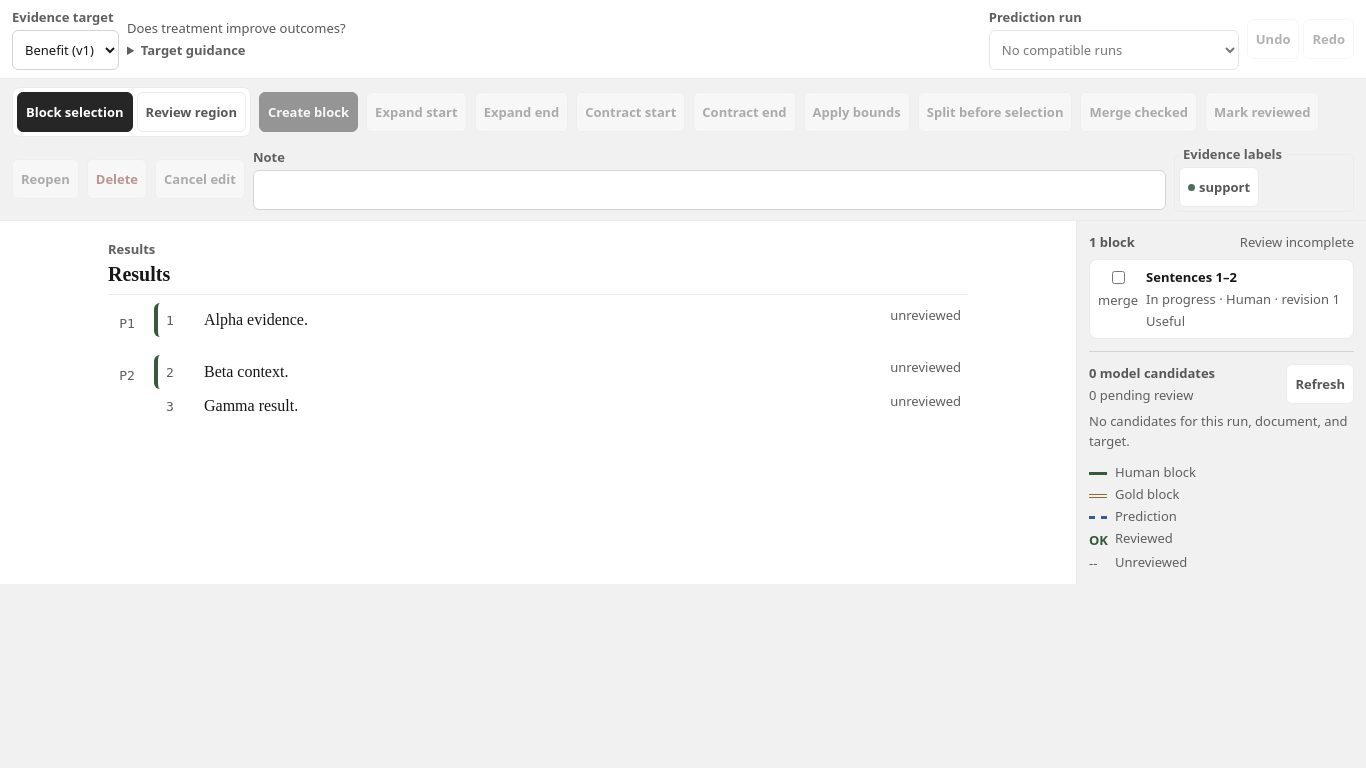
Scenario: EvidenceBlockCanvas › finishes a created block edit before selecting the next block
Click the button with aria-label "Sentence 3, unreviewed" at (251, 405), box [154, 389, 968, 423]
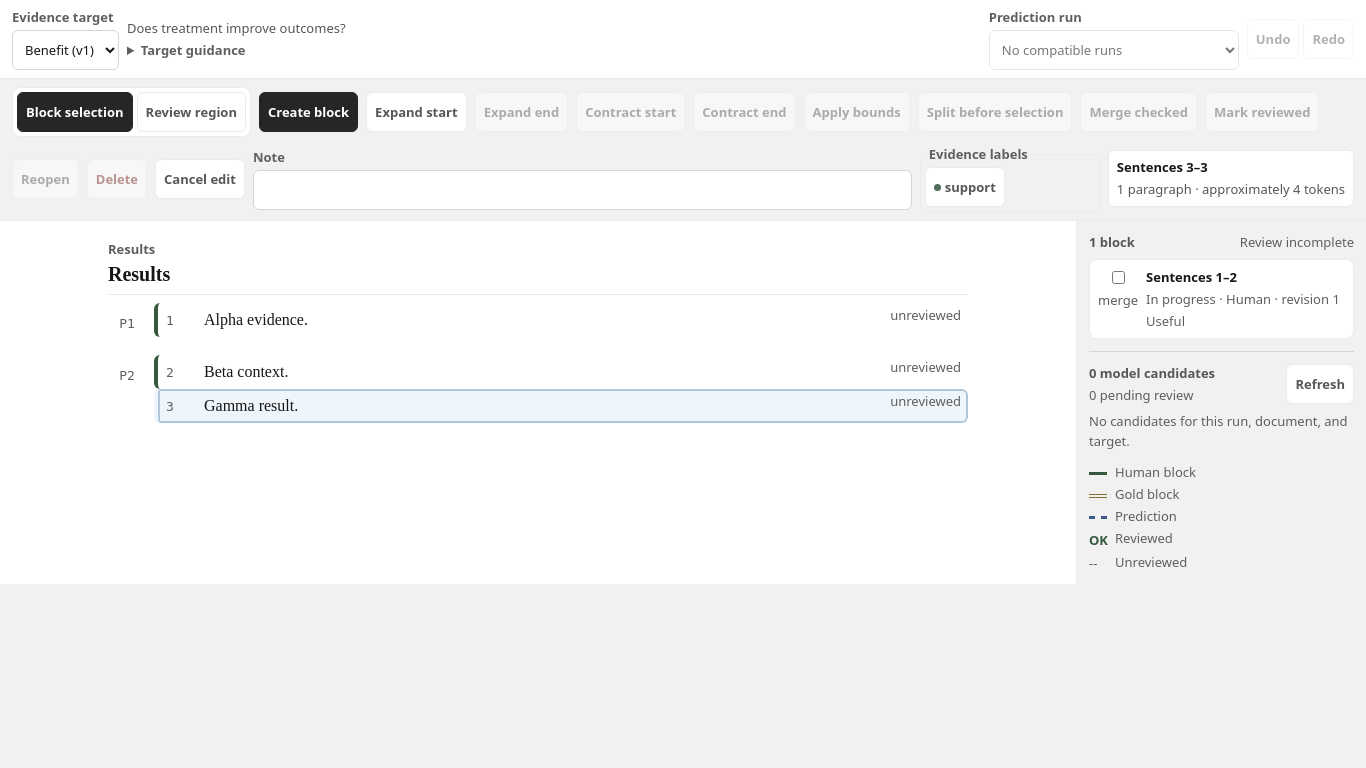
Click the button "support" at (965, 187), box [925, 167, 1005, 207]
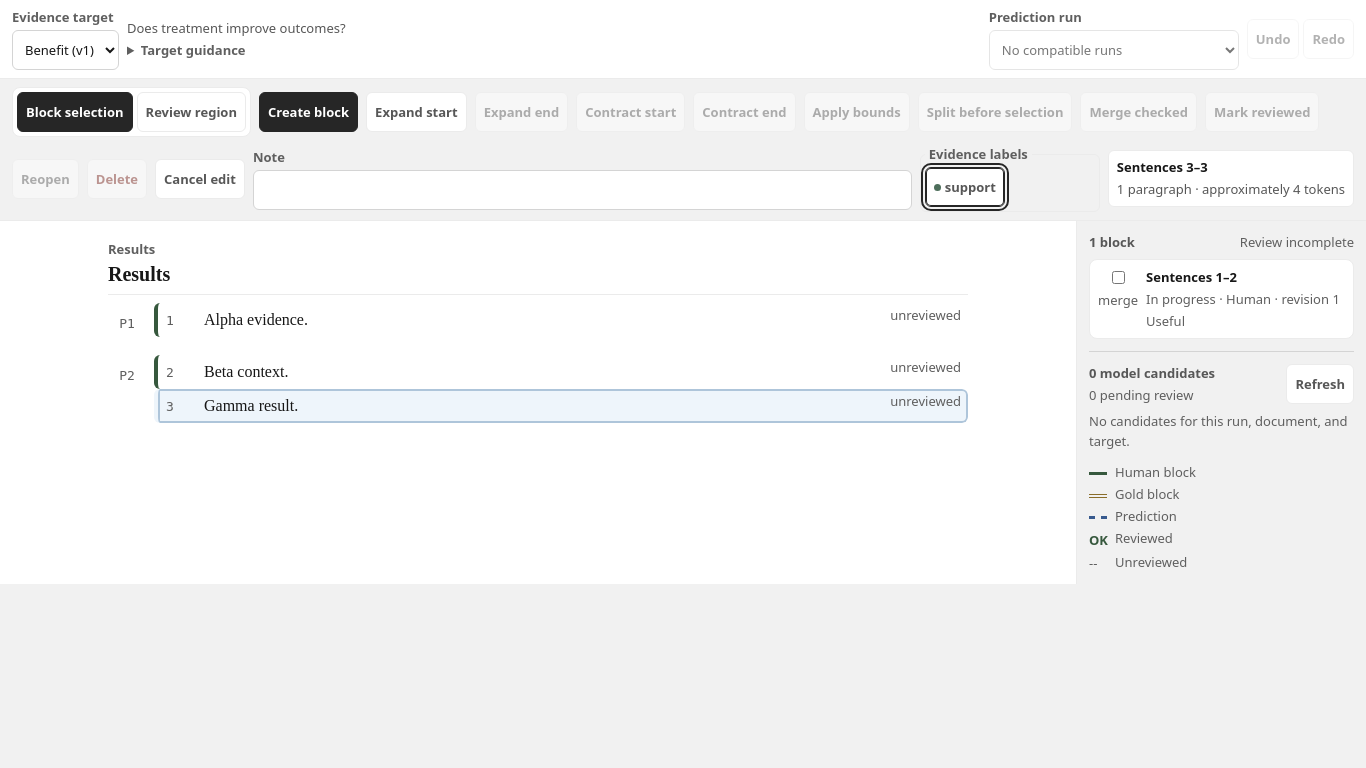
Type "First block" into the field labelled "Note" at (582, 190), box [253, 170, 912, 210]
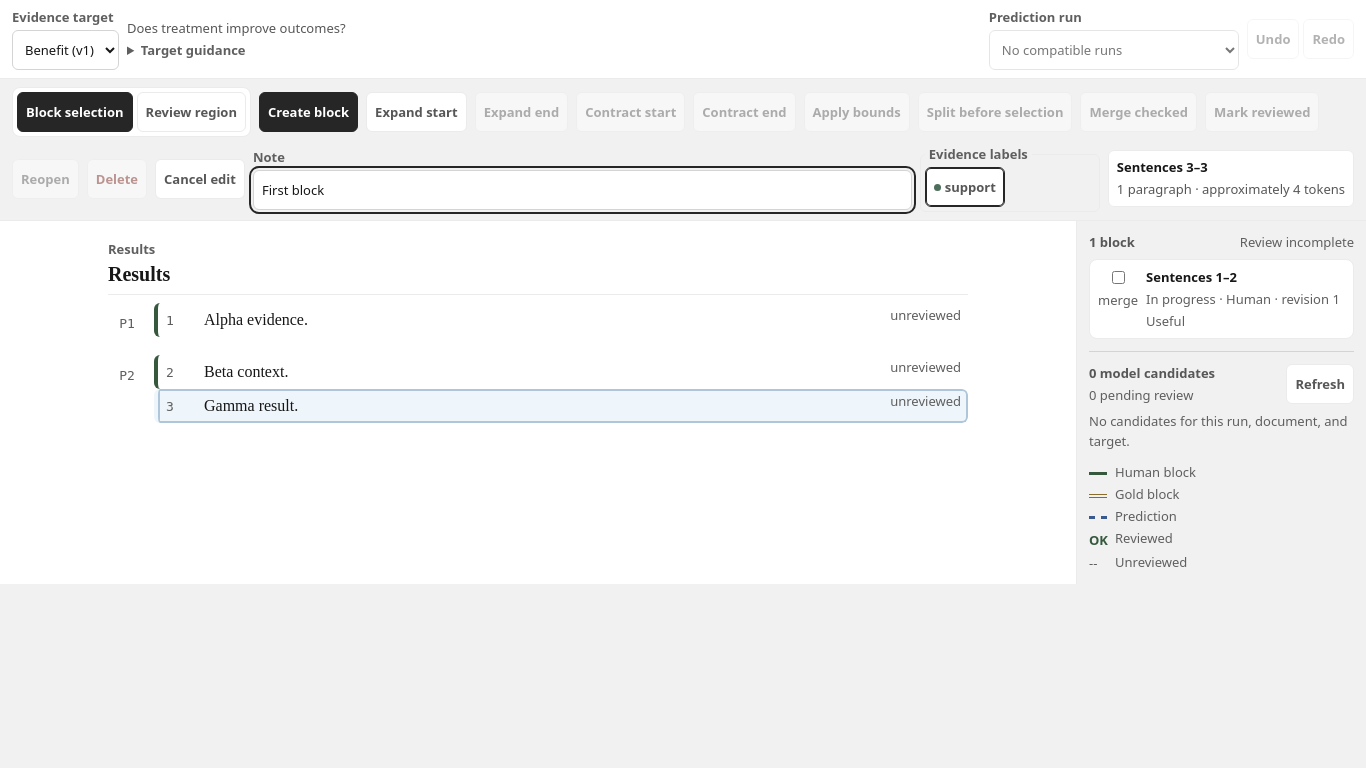
Click the button "Create block" at (309, 112), box [259, 92, 358, 132]
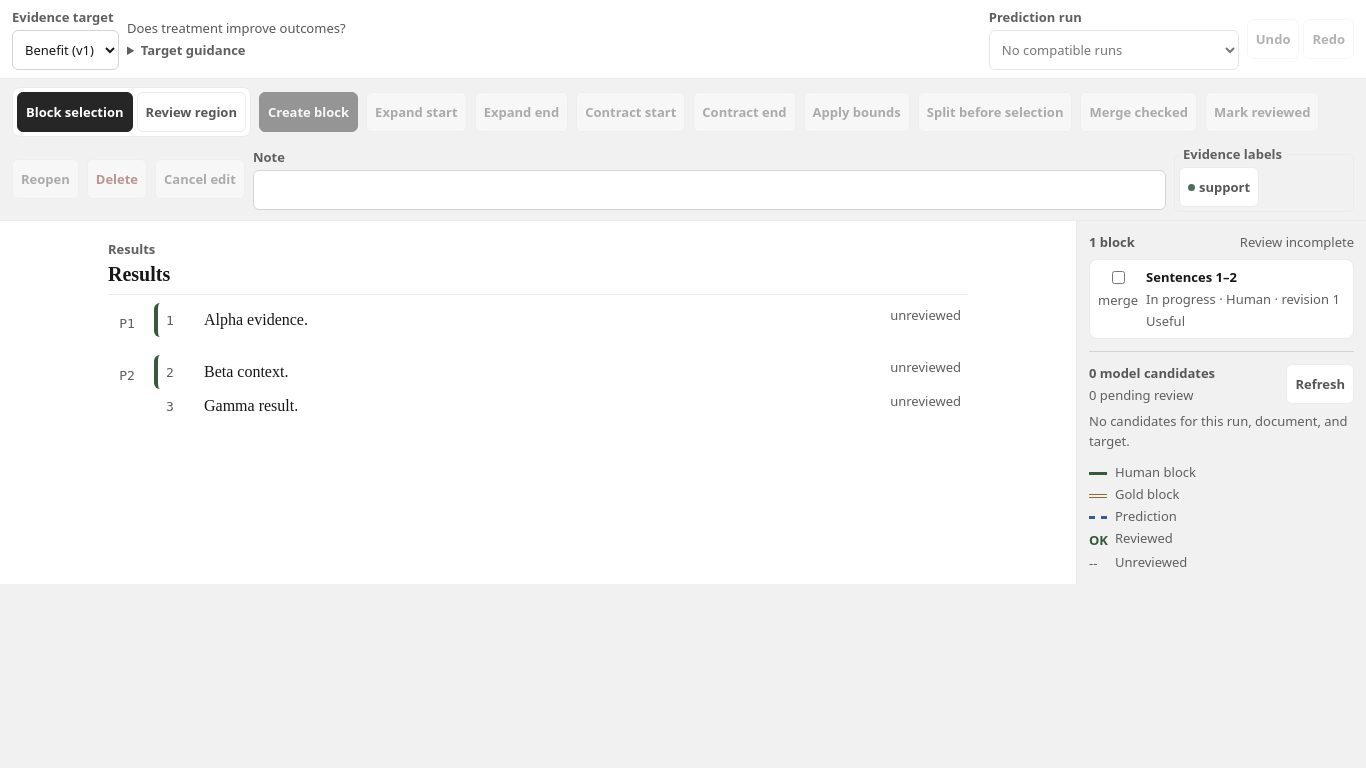
Click the button with aria-label "Sentence 3, unreviewed" at (251, 405), box [154, 389, 968, 423]
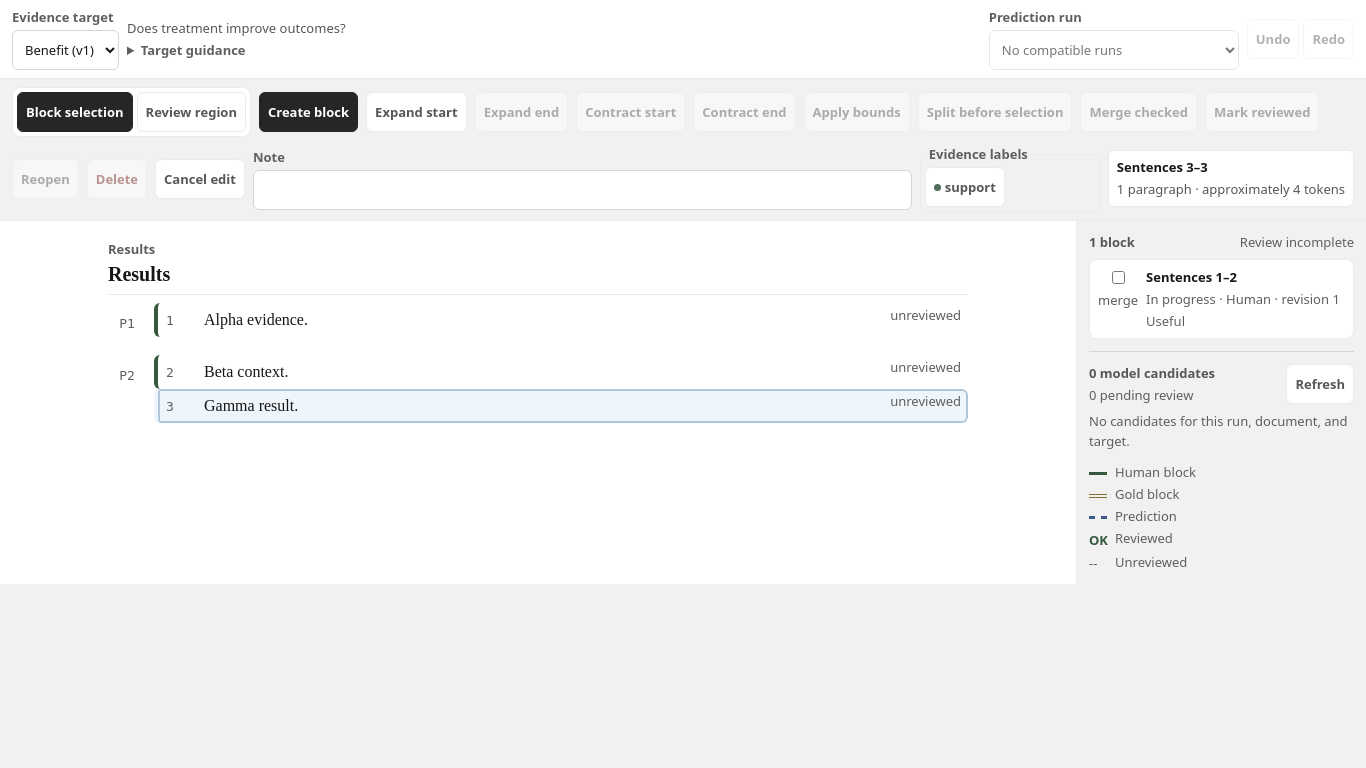
Result: the field labelled "Note" is empty at [253, 170, 912, 210]
Result: the button "Create block" is enabled at [259, 92, 358, 132]
